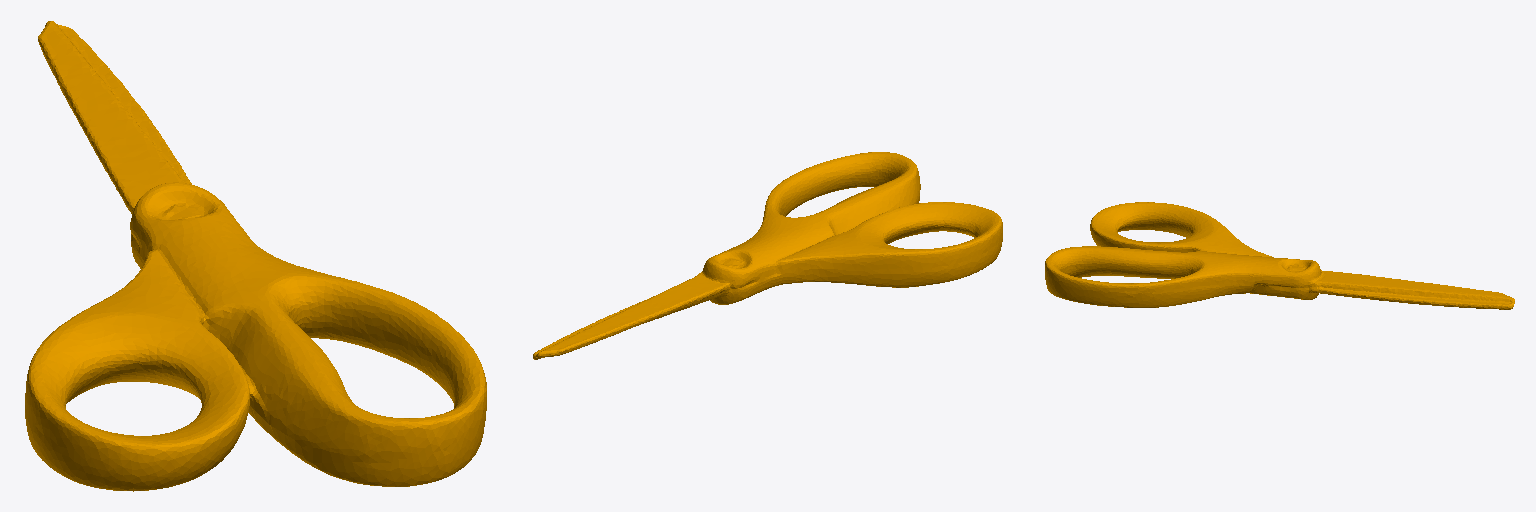
The robot description file, URDF, robot "037_scissors":
<?xml version="1.0" ?>
<robot name="037_scissors">
  <link name="base_link">
    <inertial>
      <mass value="0.012851903930403308"/>
      <origin rpy="0.93501 -1.56032 -2.78227" xyz="0.01611 0.00834 0.00731"/>
      <inertia ixx="2.8448373122165597e-05" ixy="-9.238239103948118e-23" ixz="-7.051457850683609e-23" iyy="2.3800443829079756e-05" iyz="-3.49005955054248e-21" izz="5.022066854876743e-06"/>
    </inertial>
    <collision name="037_scissors__collision">
      <origin rpy="0 0 0" xyz="0 0 0"/>
      <geometry>
        <mesh filename="./037_scissors_250_collision.stl" scale="1.0 1.0 1.0"/>
      </geometry>
    </collision>
    <visual name="037_scissors__visual">
      <origin rpy="0 0 0" xyz="0 0 0"/>
      <geometry>
        <mesh filename="./textured.obj" scale="1.0 1.0 1.0"/>
      </geometry>
    </visual>
  </link>
</robot>

--- Render facts (derived) ---
3 views of the same robot in one strip: view 1: azimuth 30°, elevation 25°; view 2: azimuth 150°, elevation 25°; view 3: azimuth 270°, elevation 25° (orthographic).
Robot: 037_scissors — 1 links, 0 joints (none); root link base_link; default pose: every joint at zero.
Links seen in each view (by area): view 1: base_link; view 2: base_link; view 3: base_link.
Link boxes in pixels (x1,y1,x2,y2): base_link: (25, 21, 486, 491); base_link: (533, 152, 1002, 359); base_link: (1045, 202, 1514, 309).
Bounding box of the posed robot: 0.0961 × 0.2015 × 0.0157 m (x, y, z).
1 mesh visuals loaded from 1 distinct referenced files (1 OBJ).